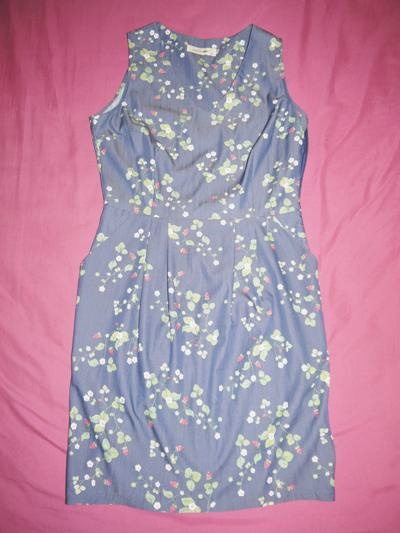Dress: (30, 14, 364, 528)
